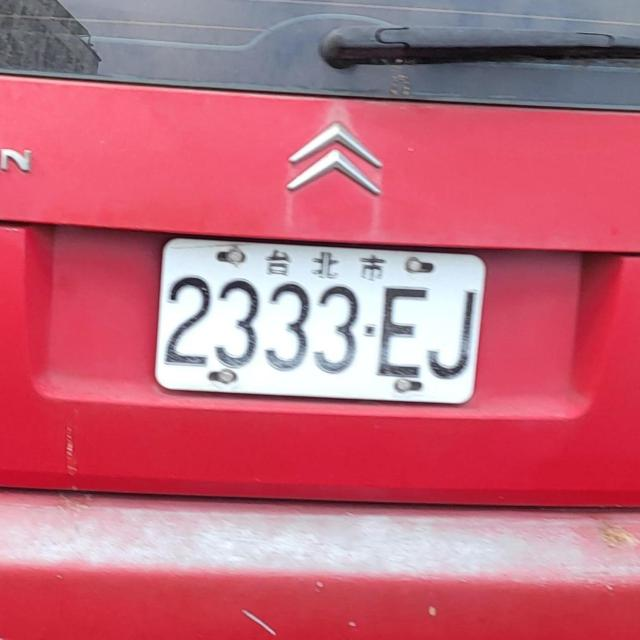W: (144, 217, 495, 416)
